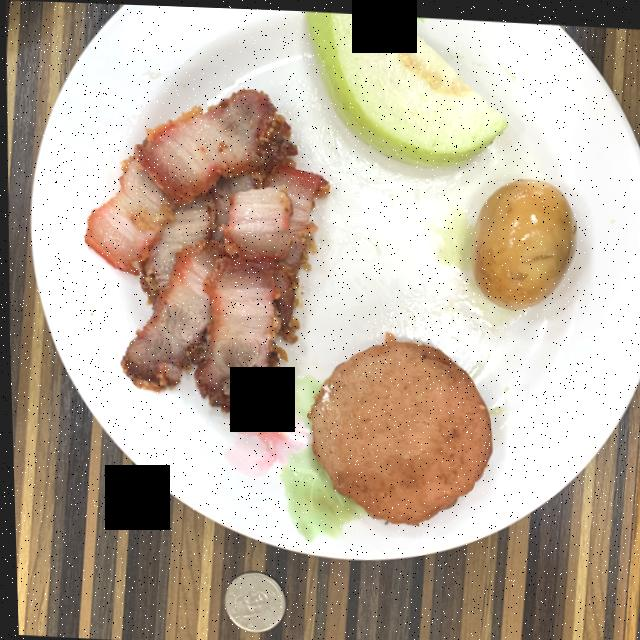Spam: (305, 330, 490, 522)
coin: (220, 570, 281, 630)
guava -sliced-: (306, 9, 506, 163)
red grilled pork: (83, 86, 328, 414)
soy egg: (470, 175, 574, 306)
